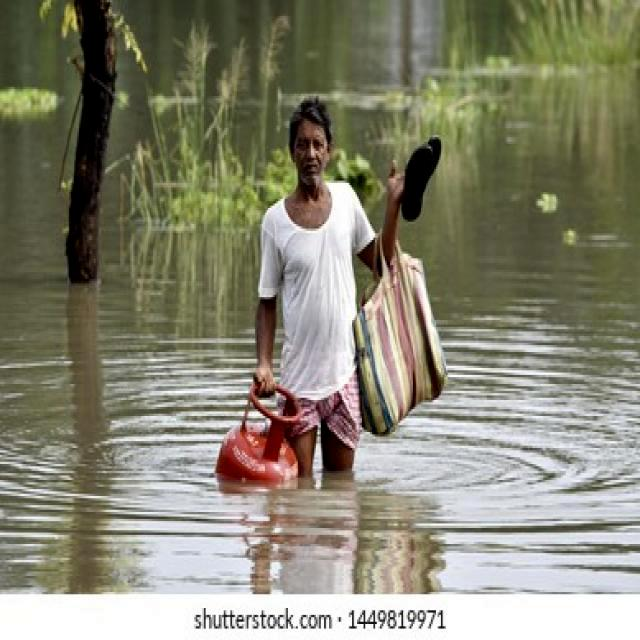civilian: (231, 91, 445, 479)
